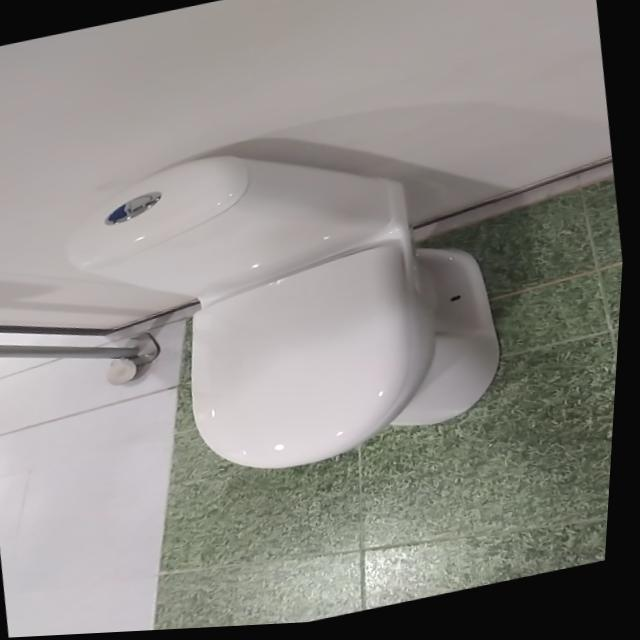toilet: (47, 103, 530, 513)
